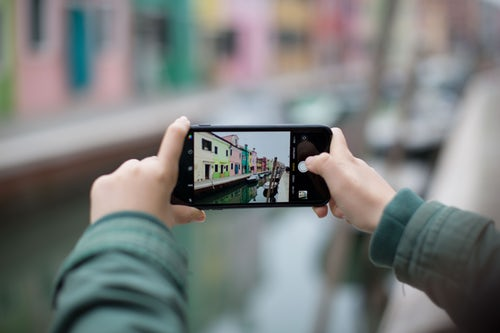phone: (166, 124, 334, 207)
